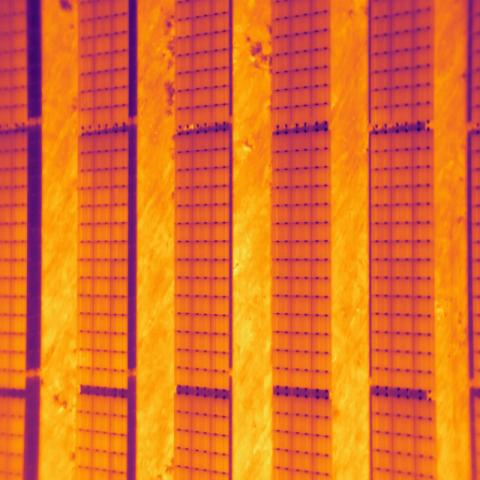fault: (77, 349, 91, 367)
